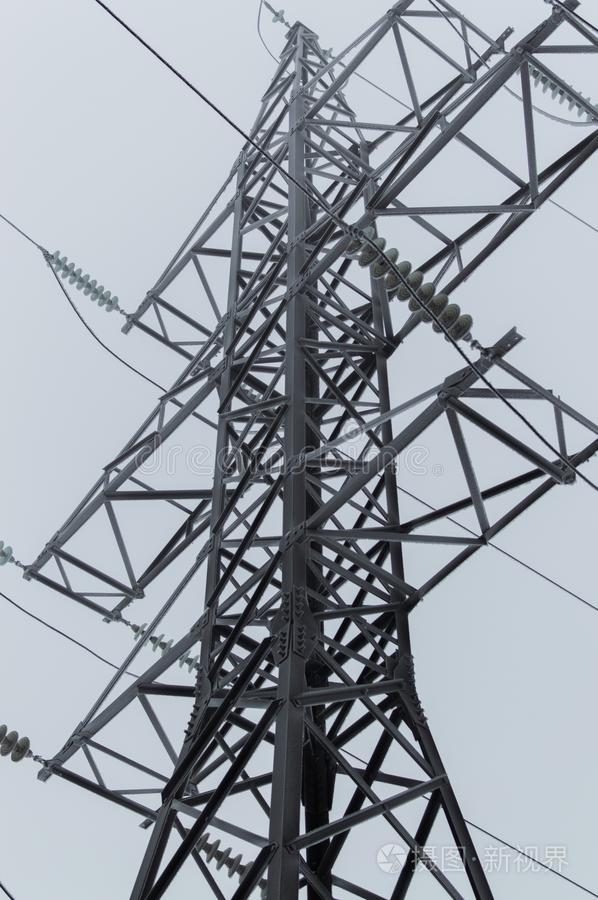insulator: (343, 226, 481, 342), (50, 249, 118, 312), (527, 63, 598, 122), (193, 833, 260, 884), (134, 624, 200, 673), (1, 723, 32, 768)
